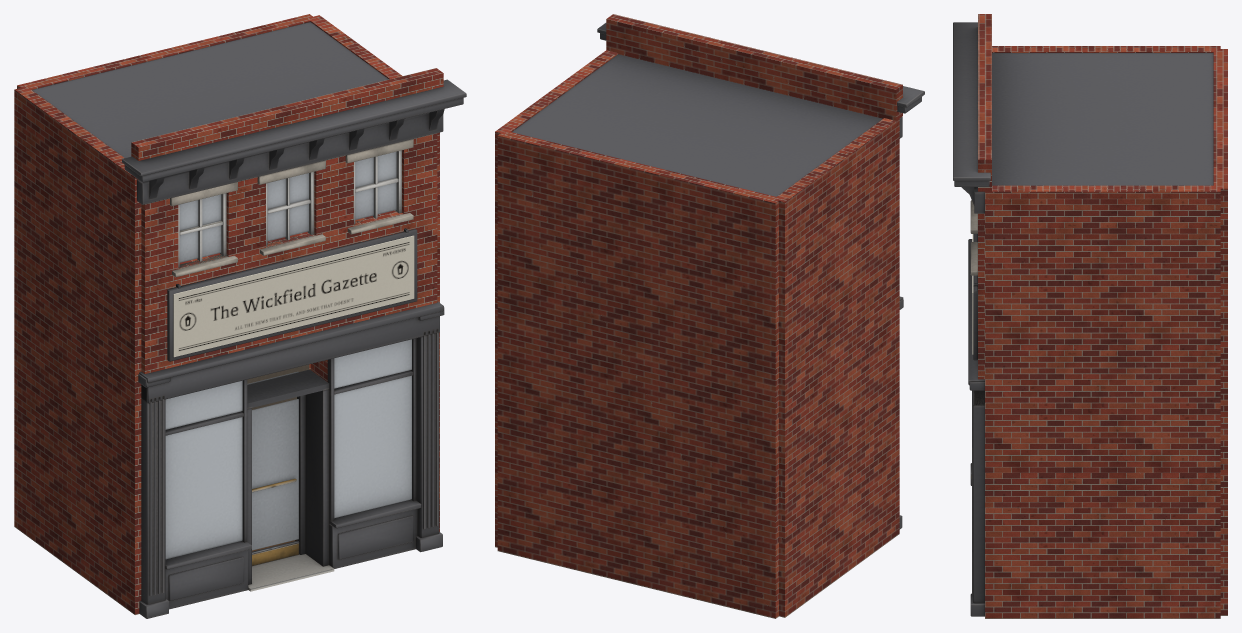
File: WFShopGazette.fbx
3 renders of one model, left to right at view 1: azimuth 30°, elevation 25°; view 2: azimuth 150°, elevation 25°; view 3: azimuth 270°, elevation 25°, orthographic. The views are drawn at different scales.
Parts seen in each view (by area): view 1: WFShopGazette_Main, WFShopGazette_Walls, WFShopGazette_Glass, WFShopGazette_Sign; view 2: WFShopGazette_Walls, WFShopGazette_Main; view 3: WFShopGazette_Walls, WFShopGazette_Main.
Boxes of the visible parts, x1,y1,x2,y2 form: WFShopGazette_Main: [32, 22, 466, 618]; WFShopGazette_Walls: [14, 14, 443, 614]; WFShopGazette_Glass: [165, 151, 411, 559]; WFShopGazette_Sign: [173, 235, 414, 357]; WFShopGazette_Walls: [495, 14, 902, 618]; WFShopGazette_Main: [512, 23, 924, 529]; WFShopGazette_Walls: [978, 14, 1227, 618]; WFShopGazette_Main: [953, 22, 1213, 616].
Size of the model in its own units: 1560 by 2150 by 1165.
